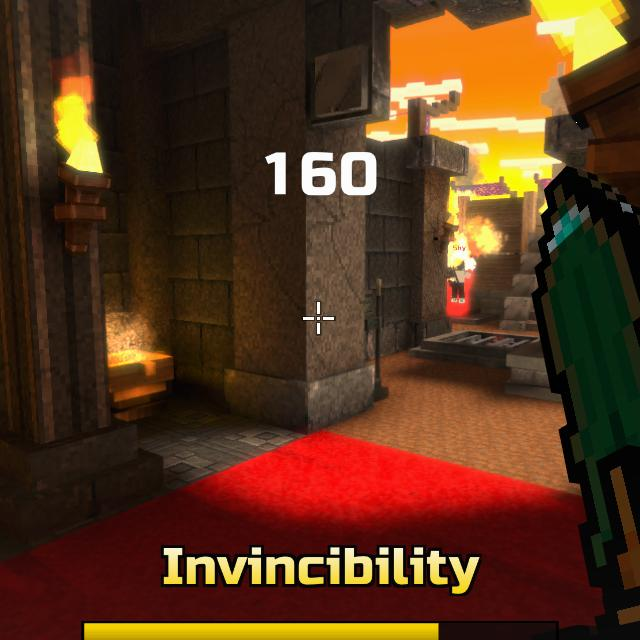Enemy: (447, 257, 471, 305)
